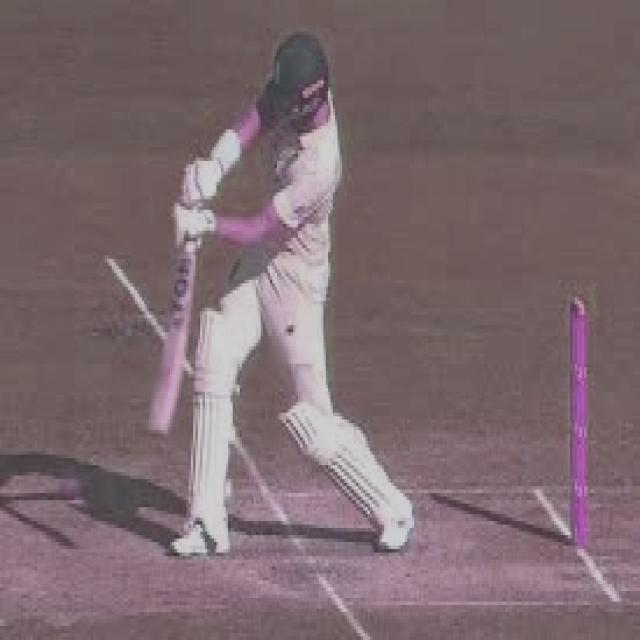bat: (139, 238, 187, 441)
toe: (137, 426, 173, 439)
